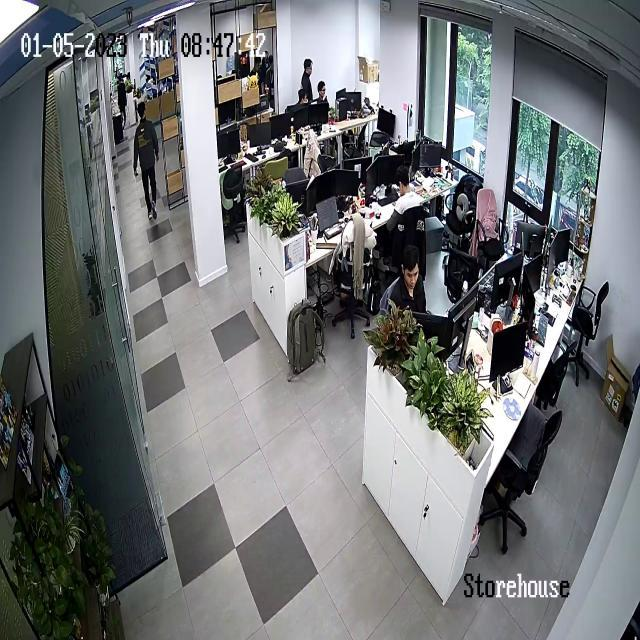person: (134, 101, 161, 222), (386, 168, 429, 239), (391, 251, 427, 314), (298, 58, 314, 104), (314, 80, 331, 116)
